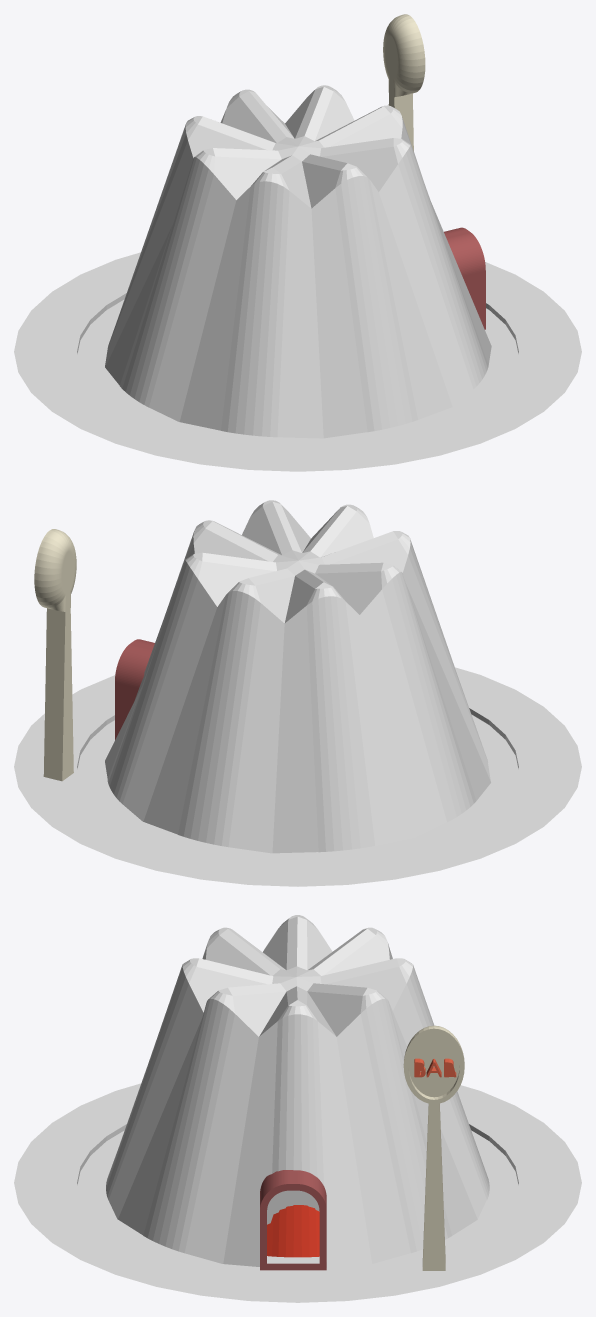
The model's file is bar.fbx.
The picture shows the model from 3 angles, top to bottom: view 1: azimuth 30°, elevation 25°; view 2: azimuth 150°, elevation 25°; view 3: azimuth 270°, elevation 25°; orthographic projection.
Visible parts, largest first — view 1: Cylinder, Cylinder.001, Cylinder.003, Cube; view 2: Cylinder, Cylinder.001, Cylinder.003, Cube; view 3: Cylinder, Cylinder.001, Cylinder.003, Cube, Cylinder.002.
Part boxes in pixels (box(x1,y1,x2,y2)): Cylinder: box(105, 85, 491, 438); Cylinder.001: box(14, 252, 581, 471); Cylinder.003: box(383, 14, 425, 151); Cube: box(444, 227, 485, 329); Cylinder: box(105, 500, 490, 853); Cylinder.001: box(14, 667, 581, 886); Cylinder.003: box(34, 529, 76, 781); Cube: box(115, 639, 154, 739); Cylinder: box(106, 915, 489, 1267); Cylinder.001: box(14, 1083, 581, 1302); Cylinder.003: box(403, 1025, 464, 1270); Cube: box(260, 1170, 326, 1270); Cylinder.002: box(267, 1205, 319, 1257).
Size of the model in its own units: 1054 by 547 by 1054.
